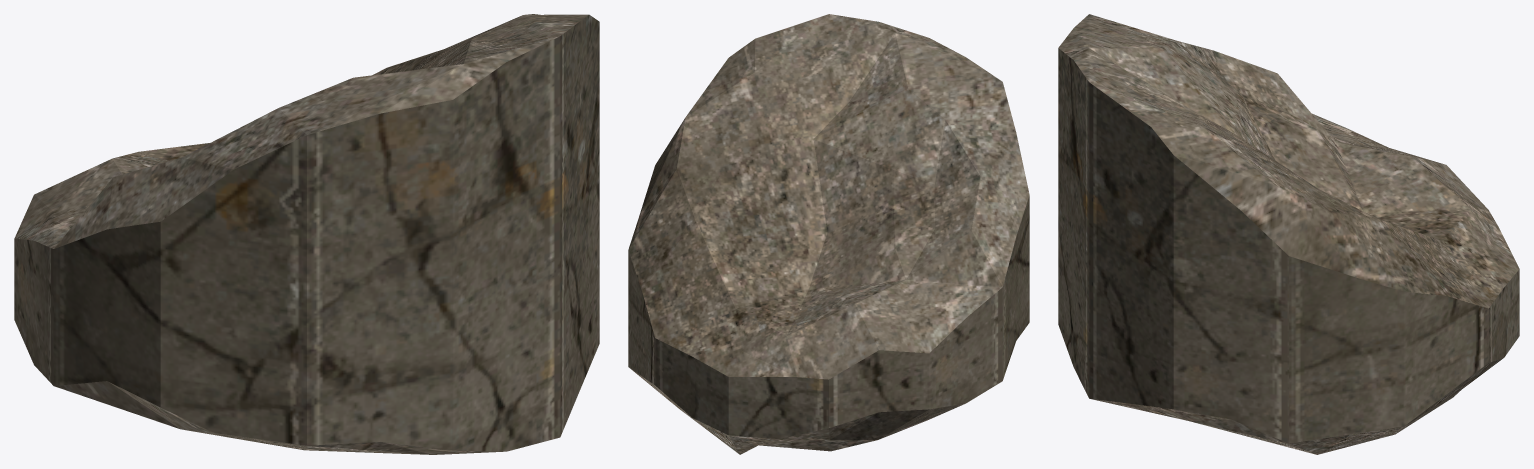
File: bg_lut_lutomb_pillar07b_sm_old.FBX
The picture shows the model from 3 angles, left to right: view 1: azimuth 30°, elevation 25°; view 2: azimuth 150°, elevation 25°; view 3: azimuth 270°, elevation 25°; orthographic projection. The views are drawn at different scales.
Visible parts, largest first — view 1: bg_lut_lutomb_pillar07b_sm_old; view 2: bg_lut_lutomb_pillar07b_sm_old; view 3: bg_lut_lutomb_pillar07b_sm_old.
Boxes of the visible parts, bbox=[...] form: bg_lut_lutomb_pillar07b_sm_old: bbox=[14, 14, 599, 454]; bg_lut_lutomb_pillar07b_sm_old: bbox=[628, 14, 1029, 454]; bg_lut_lutomb_pillar07b_sm_old: bbox=[1058, 14, 1519, 454].
Size of the model in its own units: 41.18 by 35.58 by 41.18.
